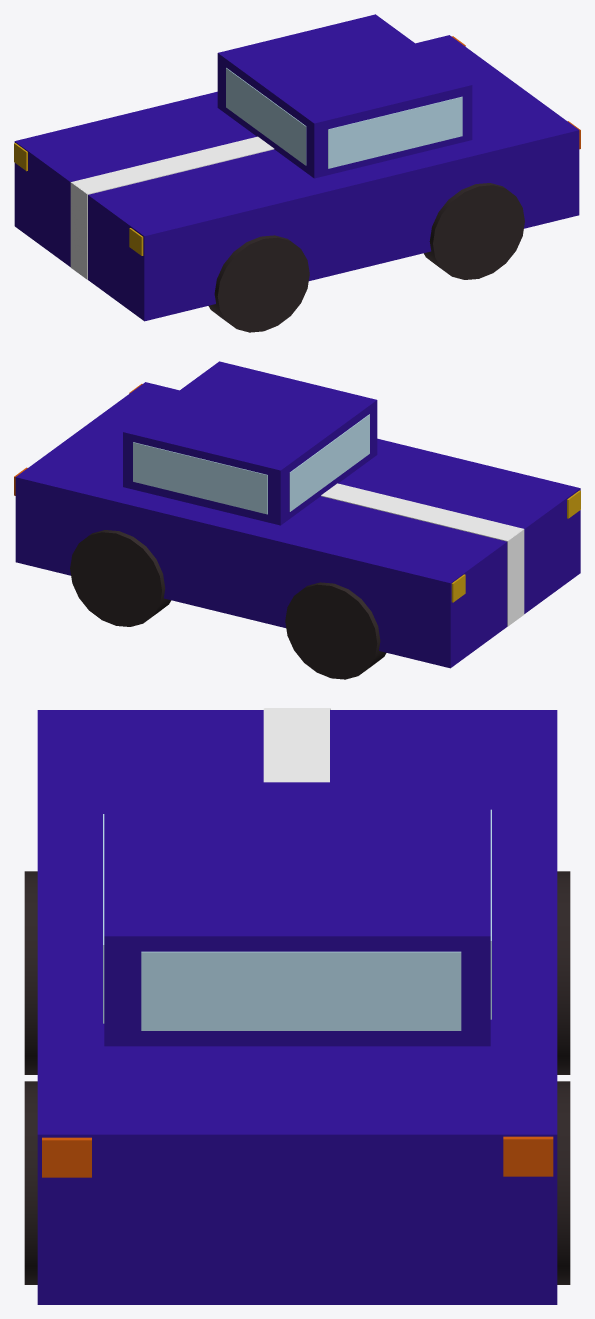
Rendered from obstacle1.fbx.
3 views of the same model, one above another, from view 1: azimuth 30°, elevation 25°; view 2: azimuth 150°, elevation 25°; view 3: azimuth 270°, elevation 25° (orthographic). The views are drawn at different scales.
Parts seen in each view (by area): view 1: RaceCar; view 2: RaceCar; view 3: RaceCar.
Part boxes in pixels (x1=…): RaceCar: x1=14, y1=14, x2=580, y2=332; RaceCar: x1=14, y1=361, x2=580, y2=679; RaceCar: x1=24, y1=708, x2=570, y2=1304.
Bounding box in the file's own units: 9988 × 3826 × 5370.
Materials: 6 (6 with a texture image).
